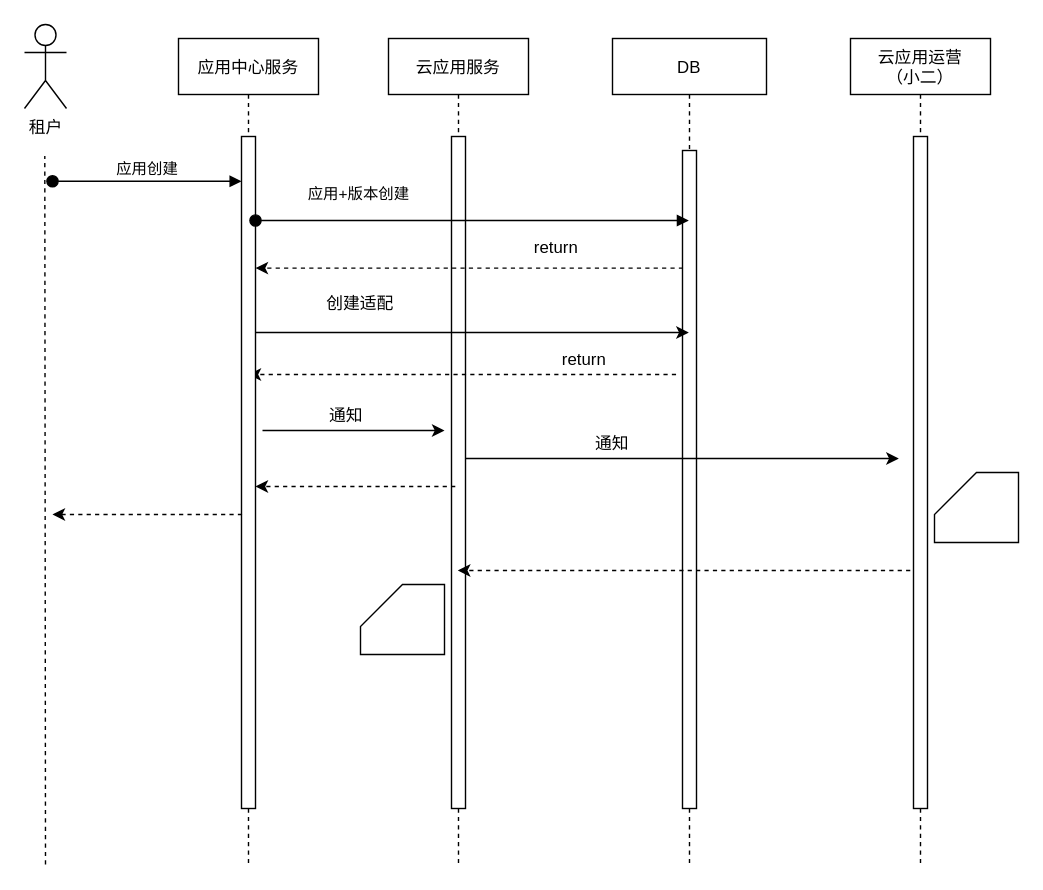
The diagram is 1043 pixels wide and 890 high, and some of its shapes have lost their labels. Here are the shapes that lost their labels. From the top down, the centre of each, then its label:
point 975,506: 适配
point 401,618: 设置版本 检验状态
